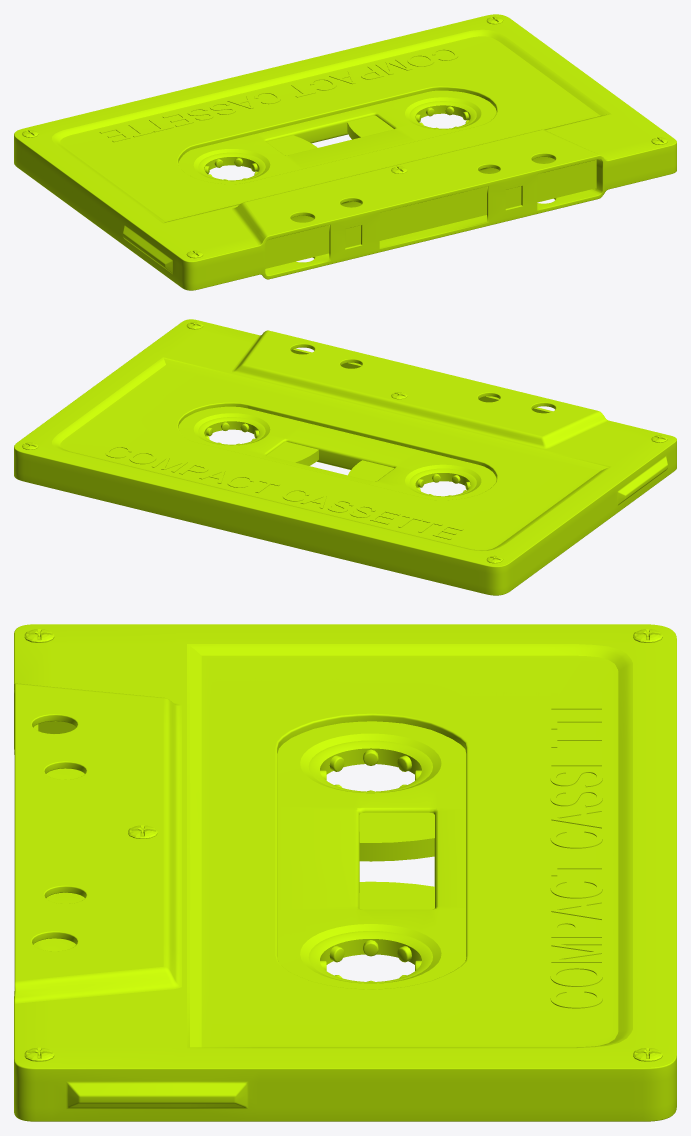
File: Cassete_main.FBX
The picture shows the model from 3 angles, top to bottom: view 1: azimuth 30°, elevation 25°; view 2: azimuth 150°, elevation 25°; view 3: azimuth 270°, elevation 25°; orthographic projection. The views are drawn at different scales.
Parts seen in each view (by area): view 1: Cassete_main; view 2: Cassete_main; view 3: Cassete_main.
Part boxes in pixels (<box>): Cassete_main: <box>14,14,676,290</box>; Cassete_main: <box>14,319,676,595</box>; Cassete_main: <box>14,624,676,1121</box>.
Bounding box in the file's own units: 5.51 × 3.4 × 0.4901.
